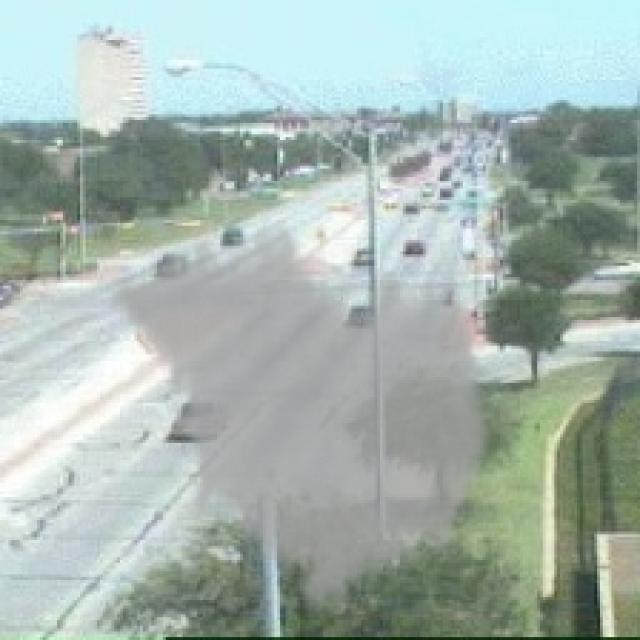smoke: (109, 208, 494, 623)
